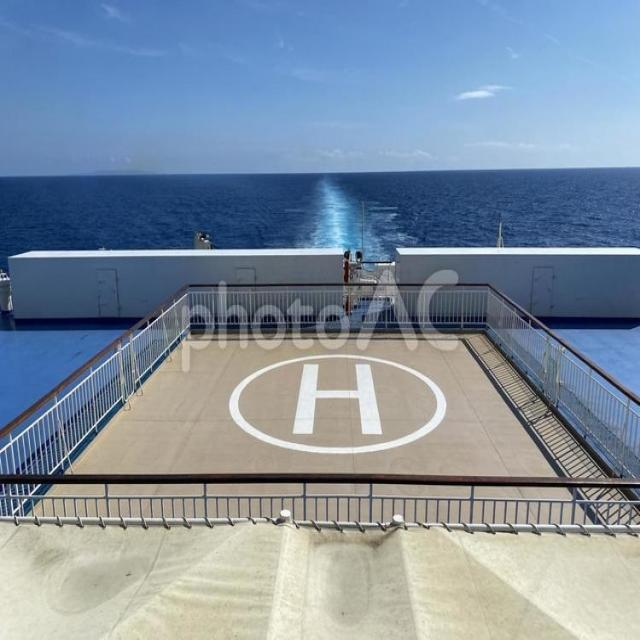helipad: (222, 348, 450, 456)
